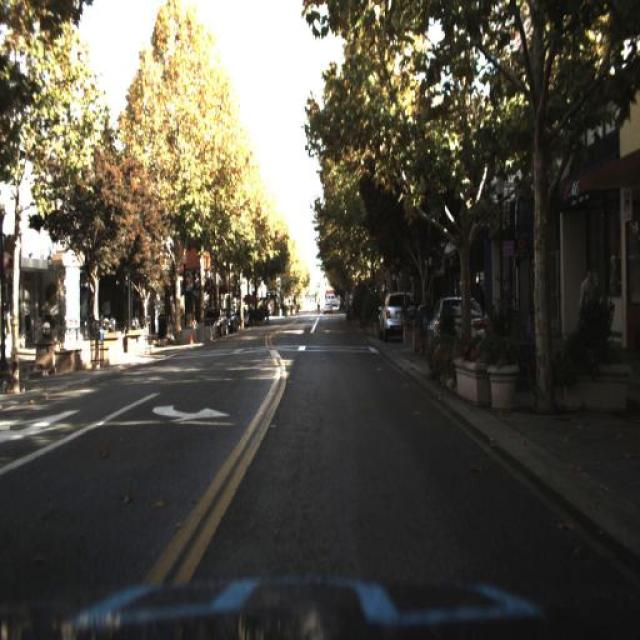car: (421, 290, 490, 351), (377, 288, 413, 344)
trafficLight: (577, 266, 603, 354)
